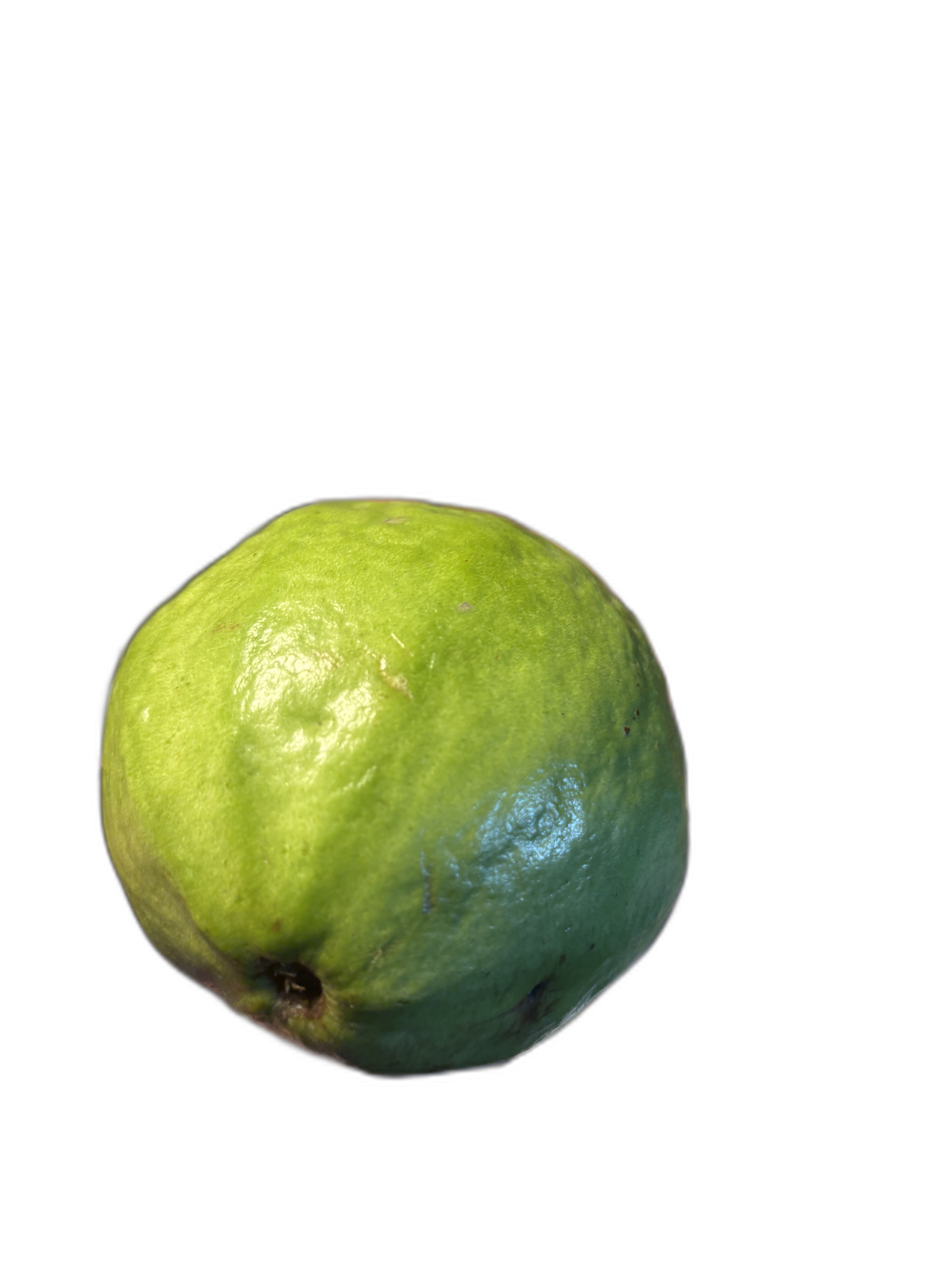guava: (77, 0, 697, 1058)
